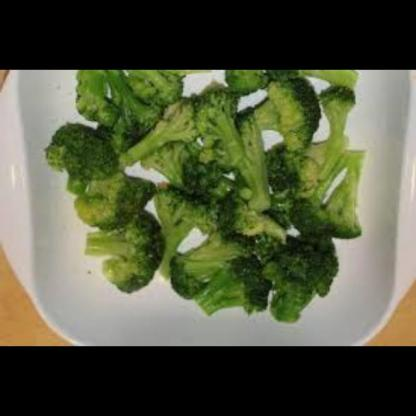broccoli: (37, 70, 364, 320)
